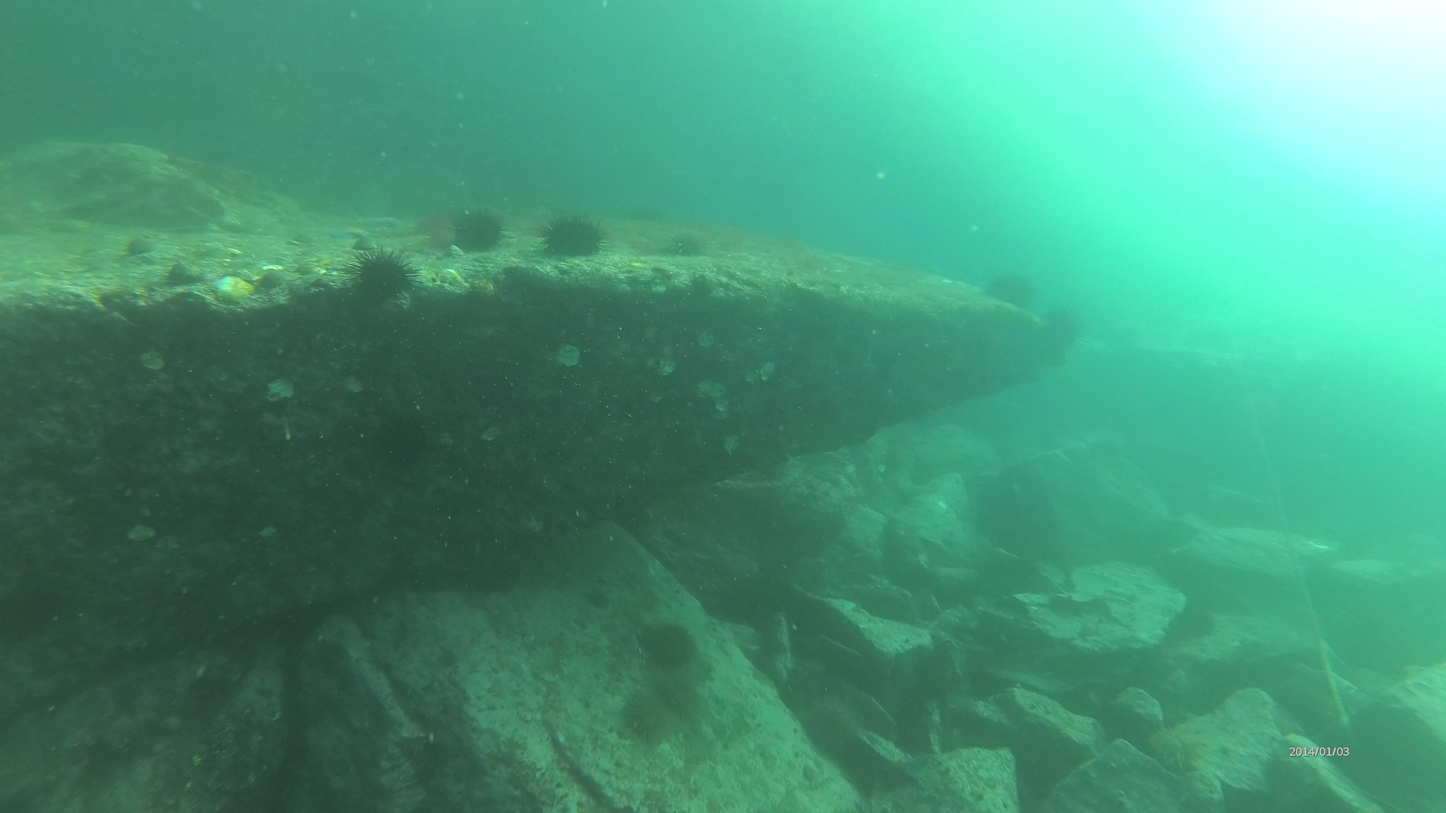holothurian: (212, 273, 255, 308)
starfish: (331, 248, 421, 315), (368, 403, 436, 473), (620, 682, 694, 746), (537, 213, 606, 277), (640, 621, 704, 674), (980, 263, 1039, 319), (452, 209, 508, 253), (1164, 603, 1219, 646), (1039, 306, 1088, 353)
